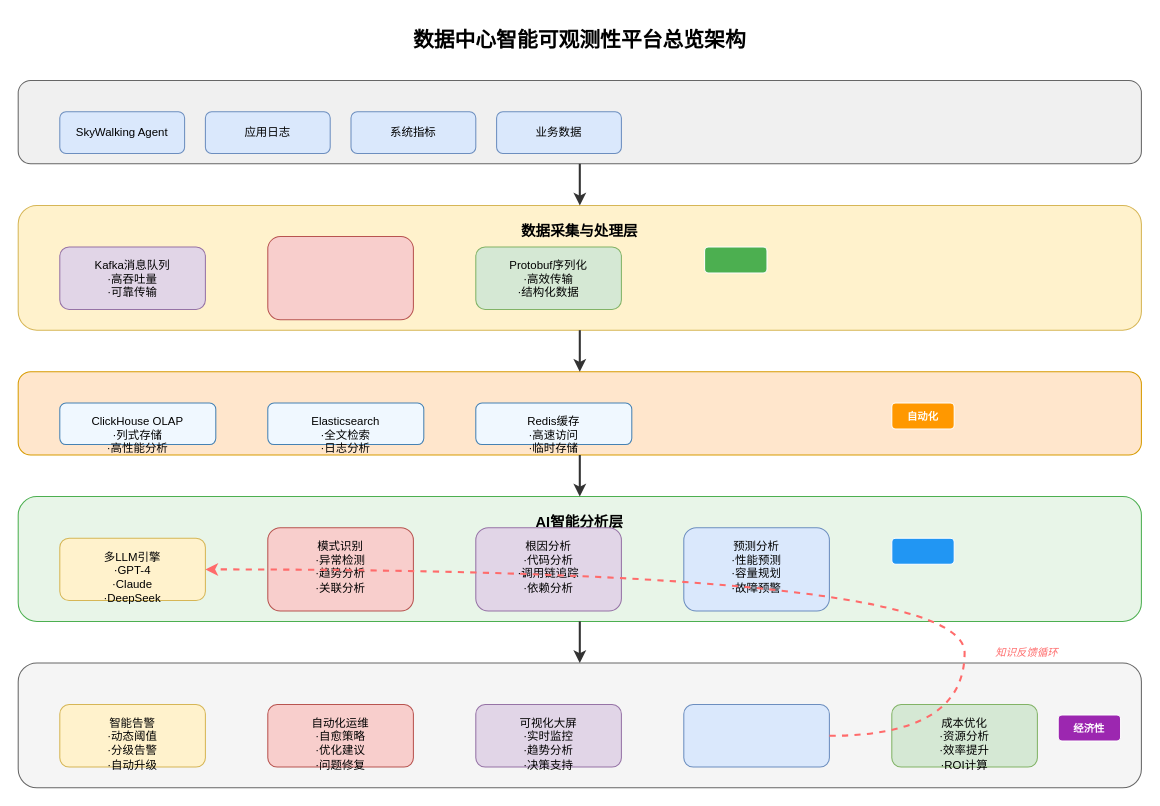
Some shapes in this 1160 by 806 pixel diagram are drawn without their labels. Each missing label, with the box of its shape:
Flink流处理 ·实时计算 ·异常检测 ·数据聚合: (267, 236, 413, 320)
实时性: (704, 246, 767, 273)
数据存储层: (17, 371, 1141, 455)
数据源层: (17, 80, 1141, 164)
智能化: (891, 537, 954, 564)
智能应用层: (17, 662, 1141, 788)
知识库系统 ·经验沉淀 ·最佳实践 ·智能推荐: (683, 704, 829, 767)
